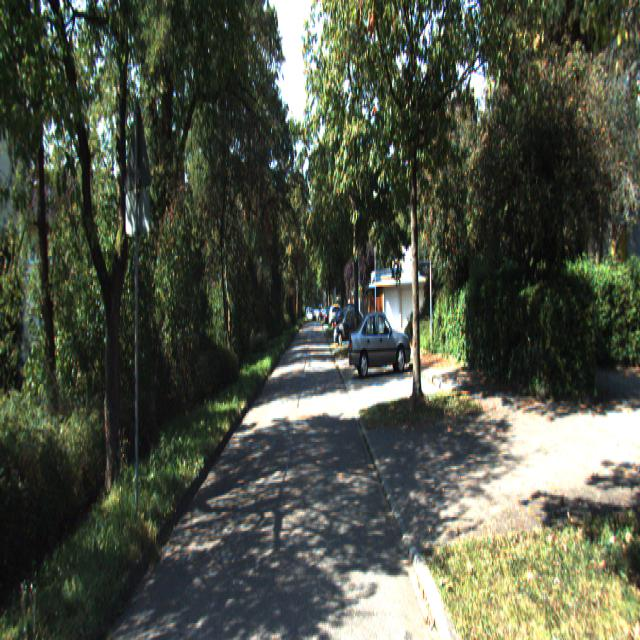Car: (348, 306, 411, 378), (333, 305, 365, 345)
